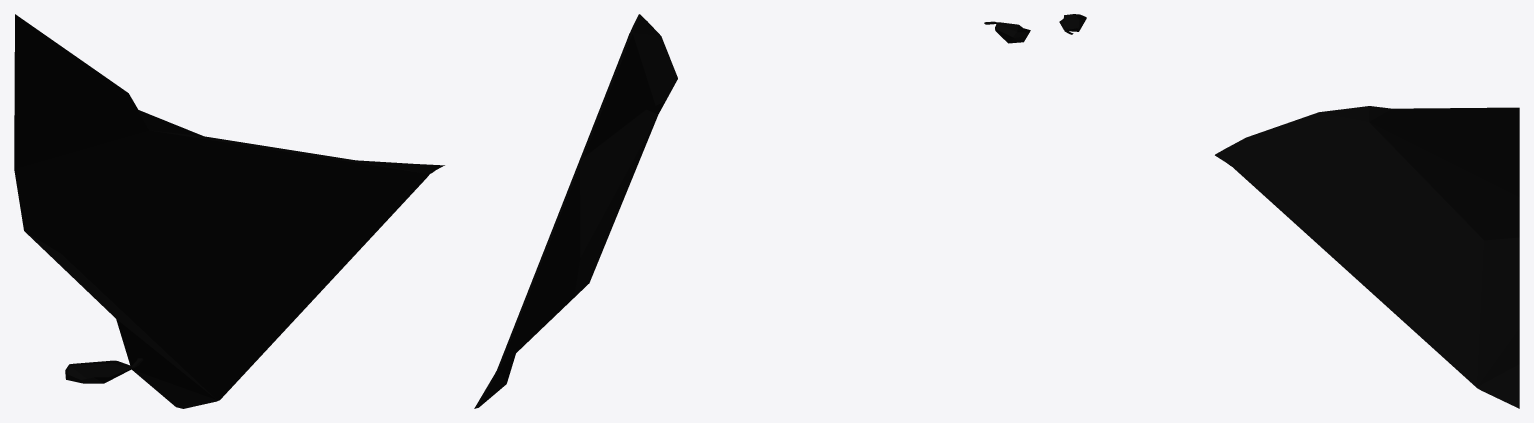
The picture shows the model from 3 angles, left to right: view 1: azimuth 30°, elevation 25°; view 2: azimuth 150°, elevation 25°; view 3: azimuth 270°, elevation 25°; orthographic projection. The views are drawn at different scales.
Bounding box in the file's own units: 3.7 × 3.1 × 5.1.
1 material, 1 textured.
